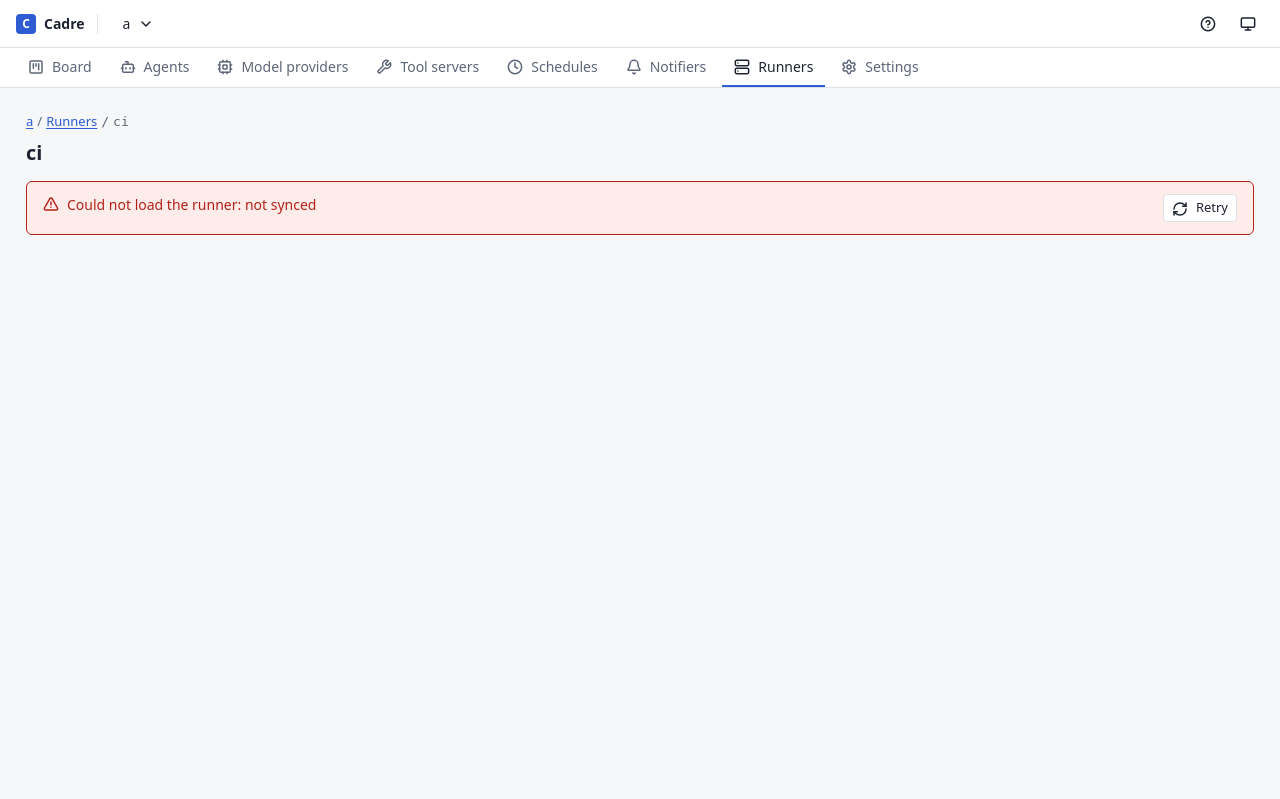
Test: RunnerDetail › shows a failed read with Retry, which reads again
Expected: the text "Could not load the runner: not synced" is shown, [67,194,316,214]
Click the button "Retry": (1200,208) [1163,194,1237,222]
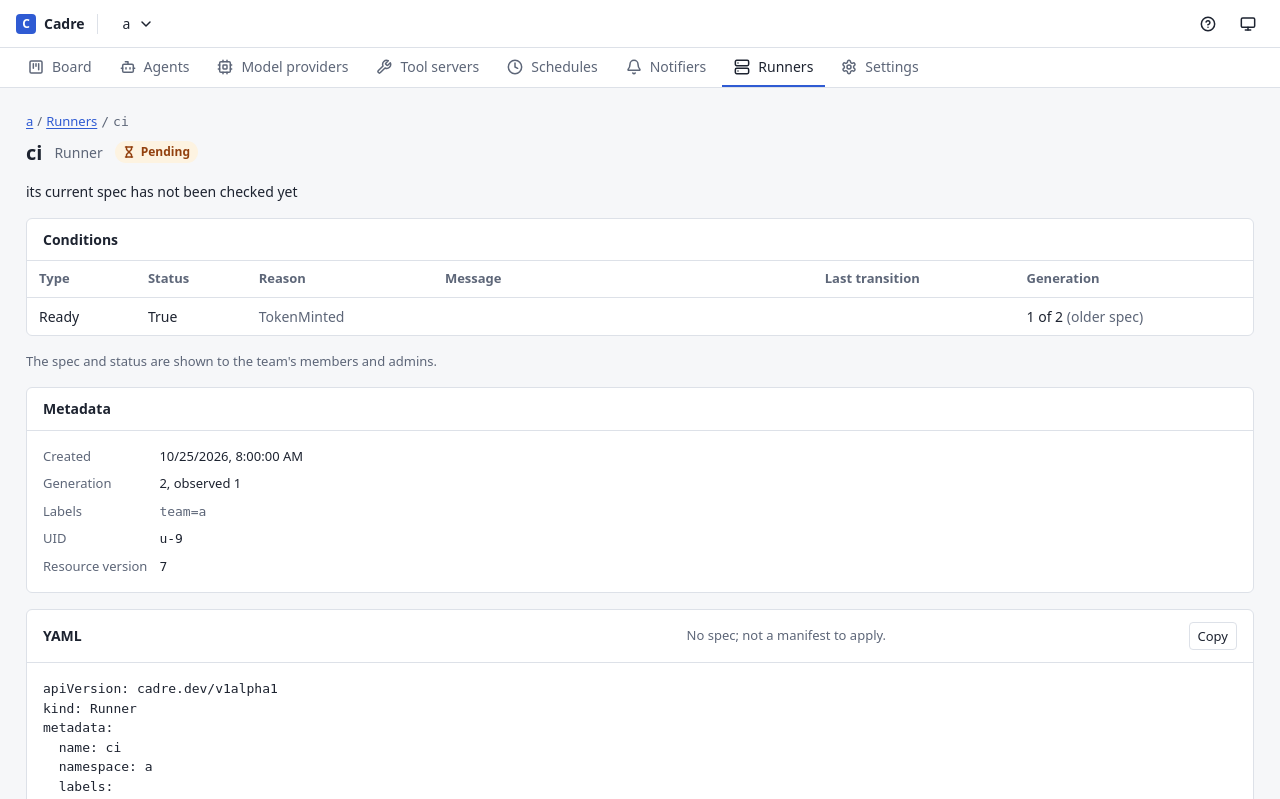
Result: the element named "Conditions table" is shown at [27,261,1253,334]
Result: the text "Could not load the runner" is gone
